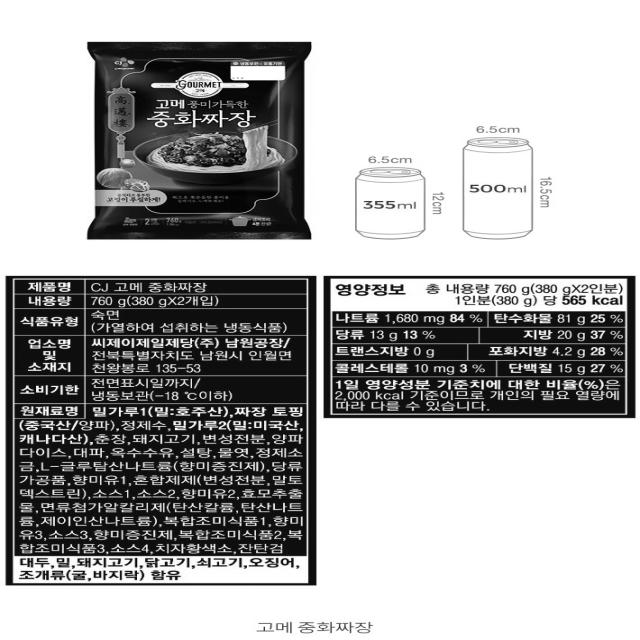Nutrition Label: (320, 274, 640, 428)
